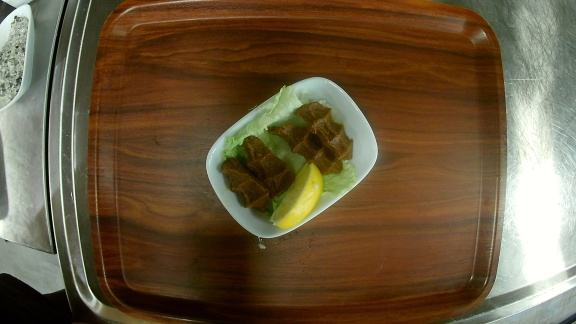cigkofte: (206, 76, 379, 240)
